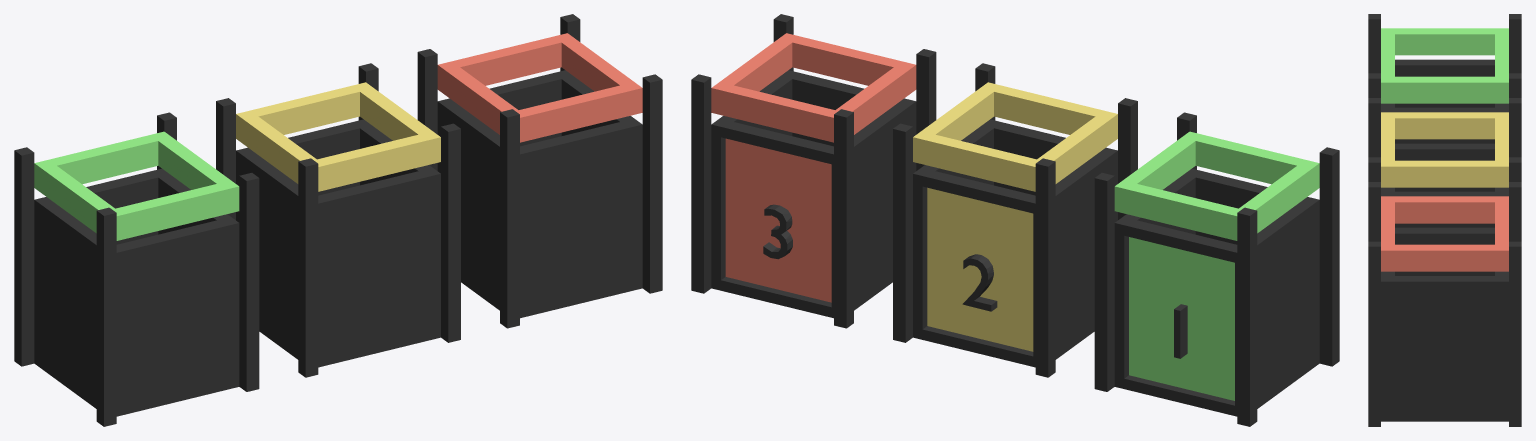
File: cestini.fbx
3 views of the same model, side by side, from view 1: azimuth 30°, elevation 25°; view 2: azimuth 150°, elevation 25°; view 3: azimuth 270°, elevation 25° (orthographic). The views are drawn at different scales.
Visible parts, largest first — view 1: 1, 3, 2; view 2: 1, 3, 2; view 3: 3, 1, 2.
Part boxes in pixels (box(x1,y1,x2,y2)): 1: box(14, 112, 259, 426); 3: box(417, 14, 662, 328); 2: box(216, 63, 460, 377); 1: box(1094, 112, 1339, 426); 3: box(691, 14, 936, 328); 2: box(893, 63, 1137, 377); 3: box(1368, 182, 1521, 426); 1: box(1368, 14, 1521, 143); 2: box(1368, 98, 1521, 227).
Size of the model in its own units: 831 by 300 by 231.
